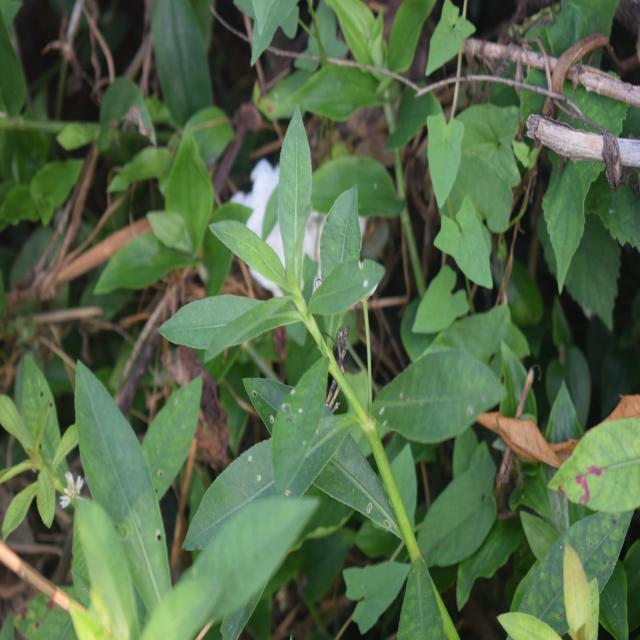Alligatorweed: (190, 158, 461, 561)
